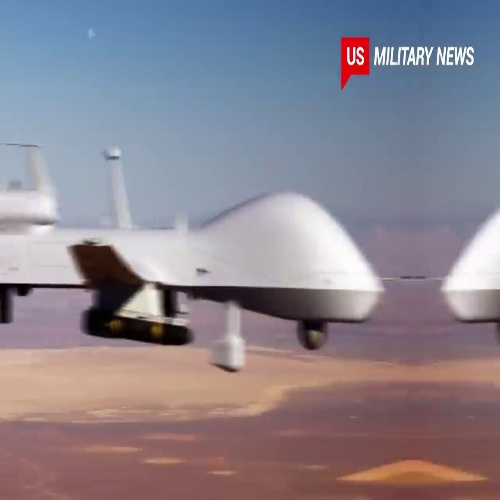uav348: (1, 139, 393, 376)
